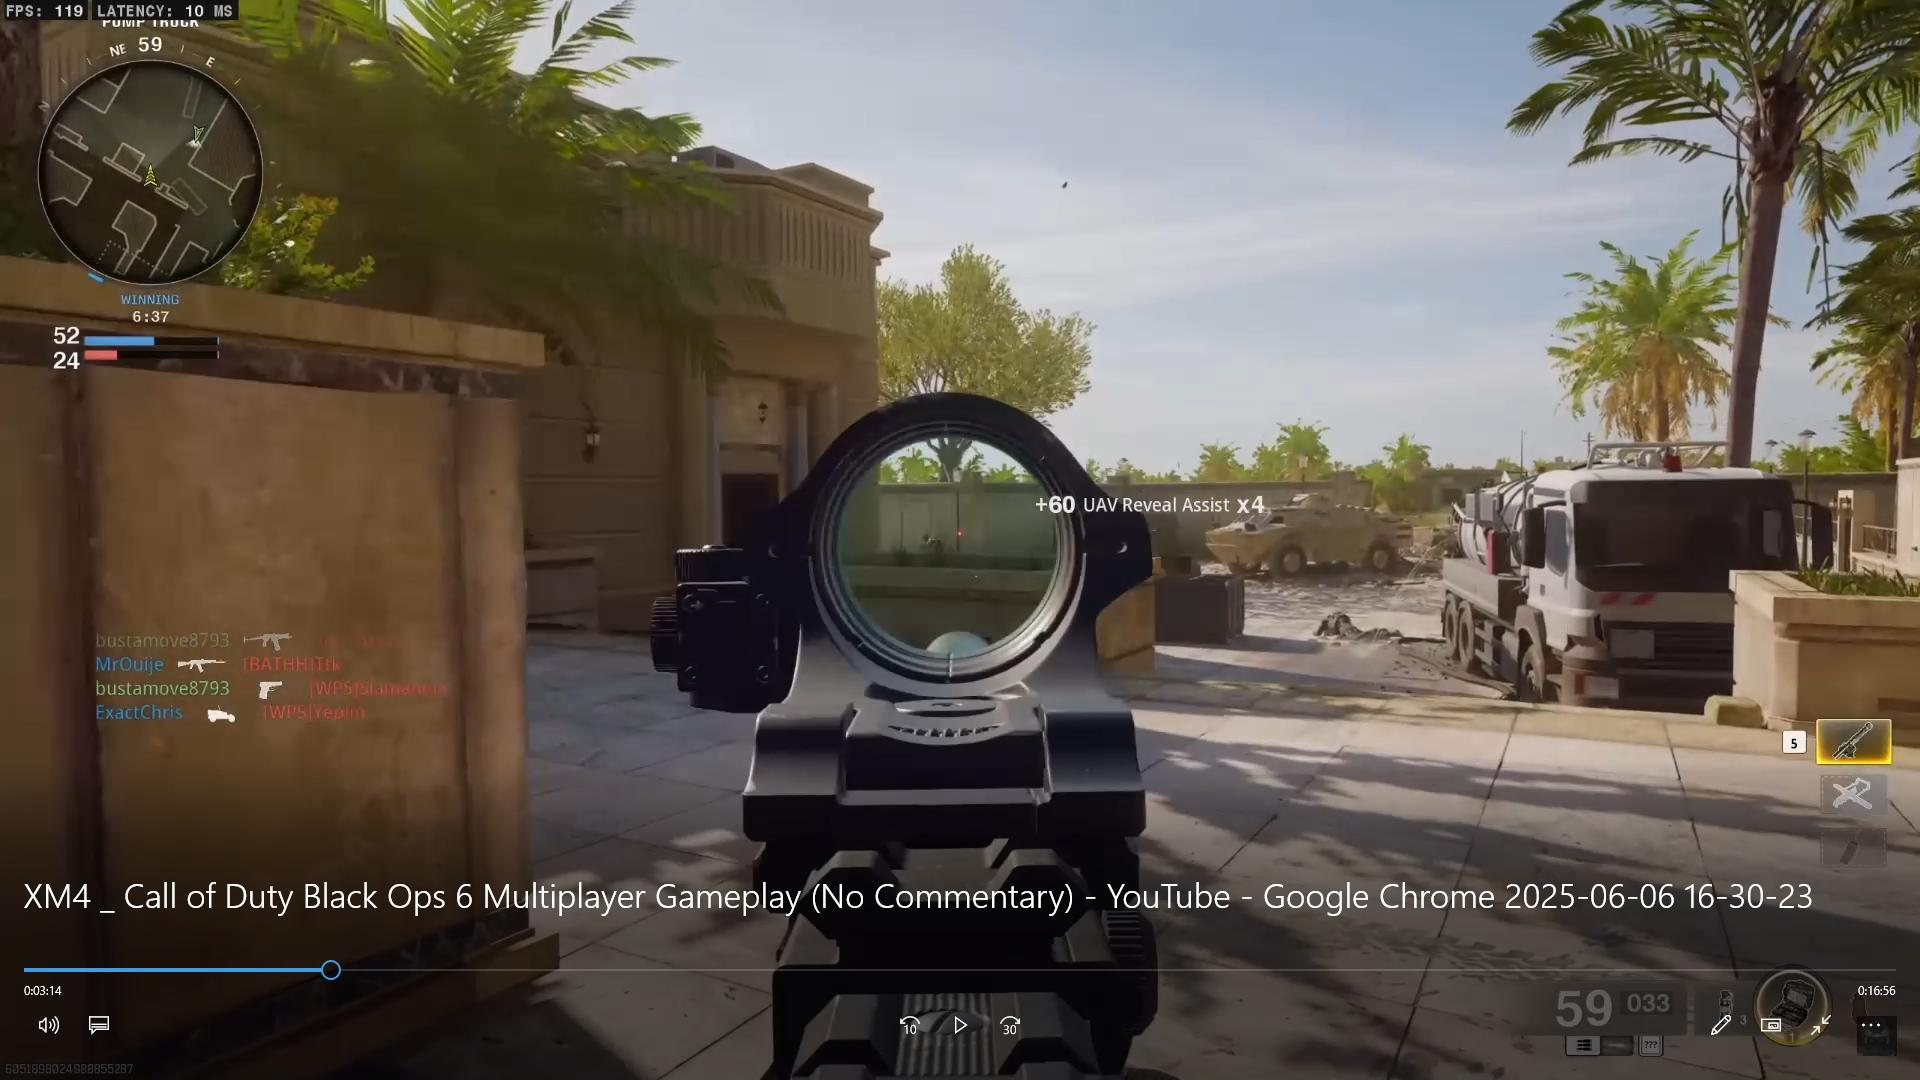Enemy: (915, 517, 945, 560)
